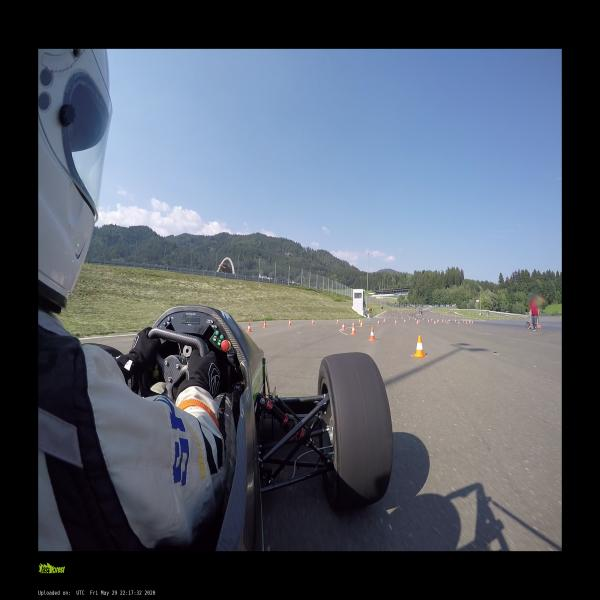orange_cone: (412, 336, 428, 357), (367, 327, 376, 341), (350, 323, 356, 335), (340, 322, 346, 331), (247, 322, 252, 332), (262, 320, 266, 328), (288, 319, 291, 326), (311, 318, 314, 325), (352, 321, 355, 328), (376, 320, 379, 325), (394, 320, 397, 324), (360, 320, 362, 326), (336, 318, 338, 323), (358, 319, 360, 323), (383, 318, 385, 321), (403, 319, 405, 321), (447, 321, 448, 324), (458, 321, 459, 324), (416, 320, 417, 323), (434, 321, 435, 324), (465, 322, 467, 323)
